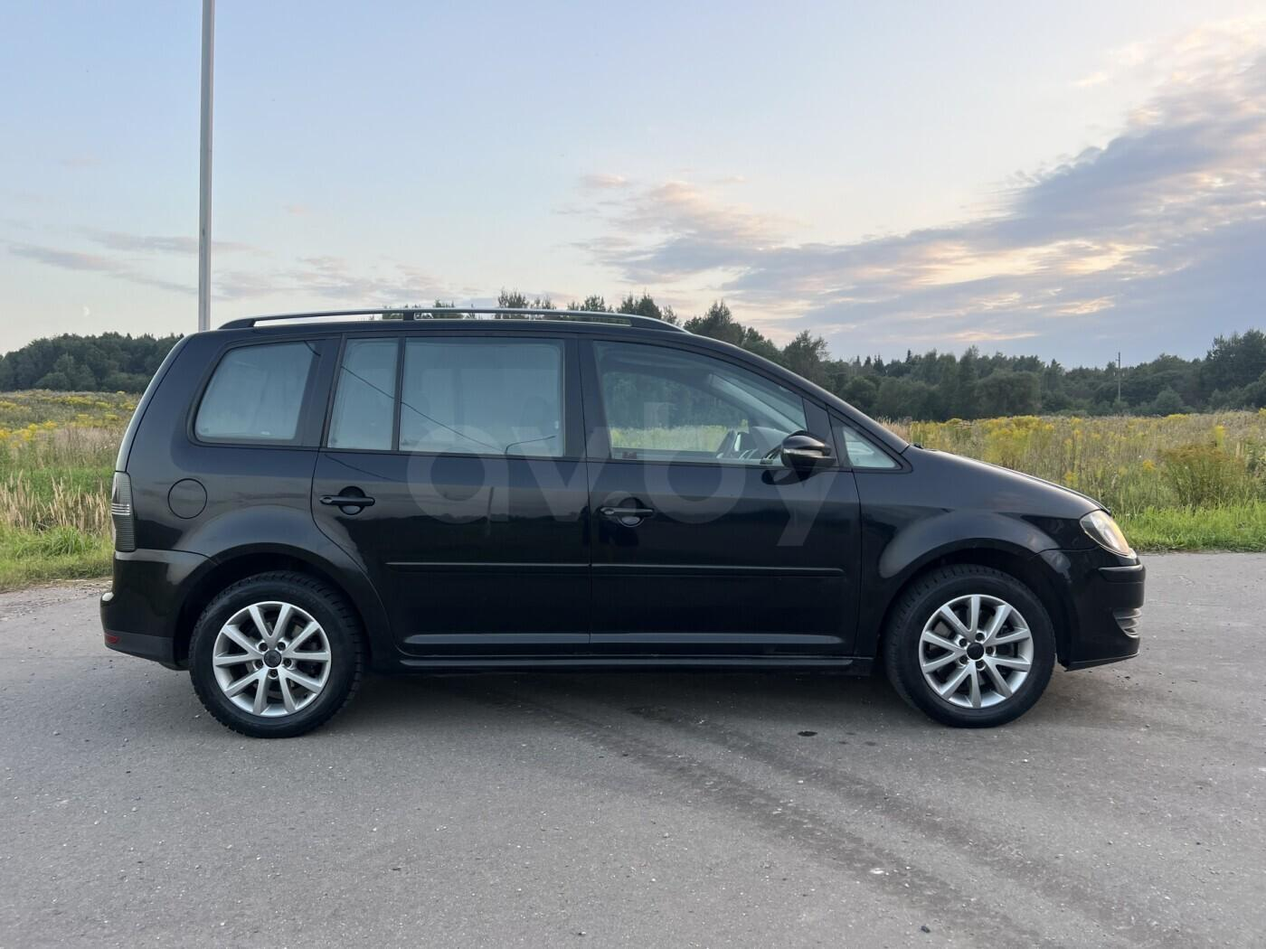Touran_2006-2010: (94, 310, 1152, 722)
